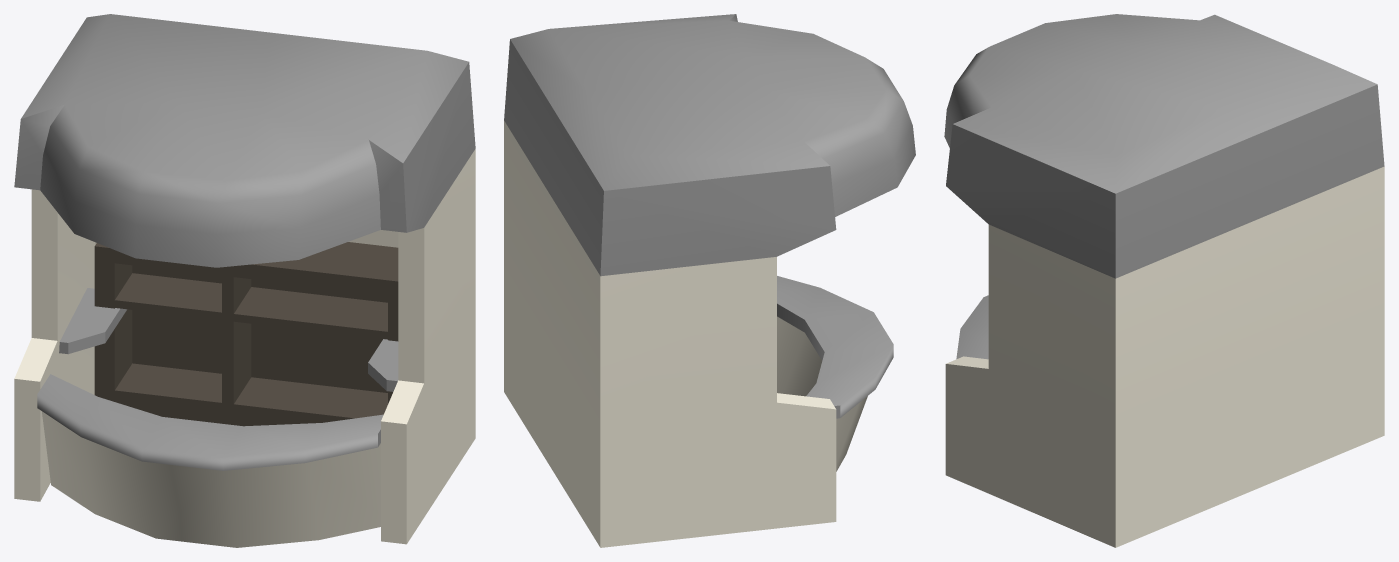
The model's file is Foodstand_10.fbx.
3 views of the same model, side by side, from view 1: azimuth 30°, elevation 25°; view 2: azimuth 150°, elevation 25°; view 3: azimuth 270°, elevation 25° (orthographic). The views are drawn at different scales.
Parts seen in each view (by area): view 1: Foodstand_10; view 2: Foodstand_10; view 3: Foodstand_10.
Part boxes in pixels (bbox=[...]): Foodstand_10: bbox=[14, 14, 475, 547]; Foodstand_10: bbox=[504, 14, 915, 547]; Foodstand_10: bbox=[944, 14, 1384, 547].
Bounding box in the file's own units: 16.45 × 15.28 × 16.44.
